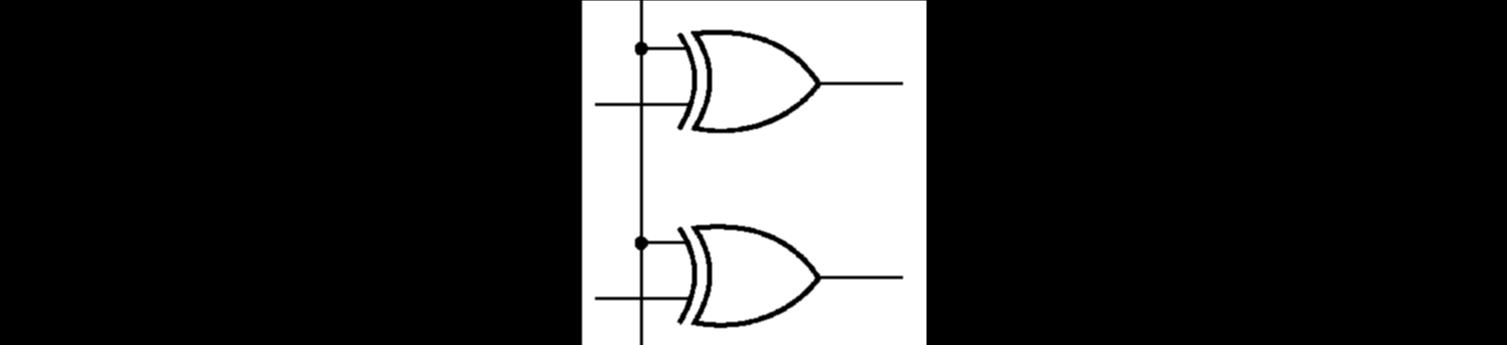xor: (658, 205, 830, 337), (663, 16, 831, 138)
